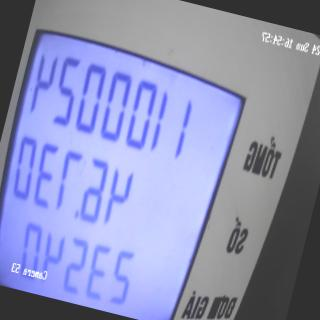screen: (0, 24, 252, 320)
